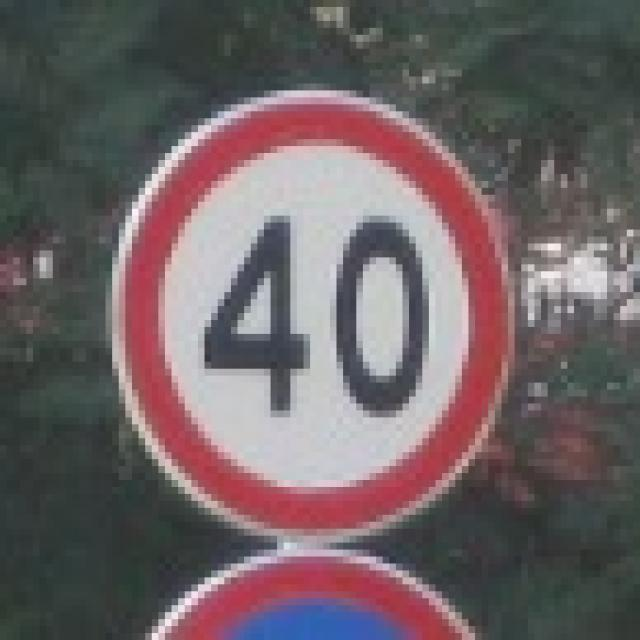Speed Limit -40-: (198, 212, 444, 422)
